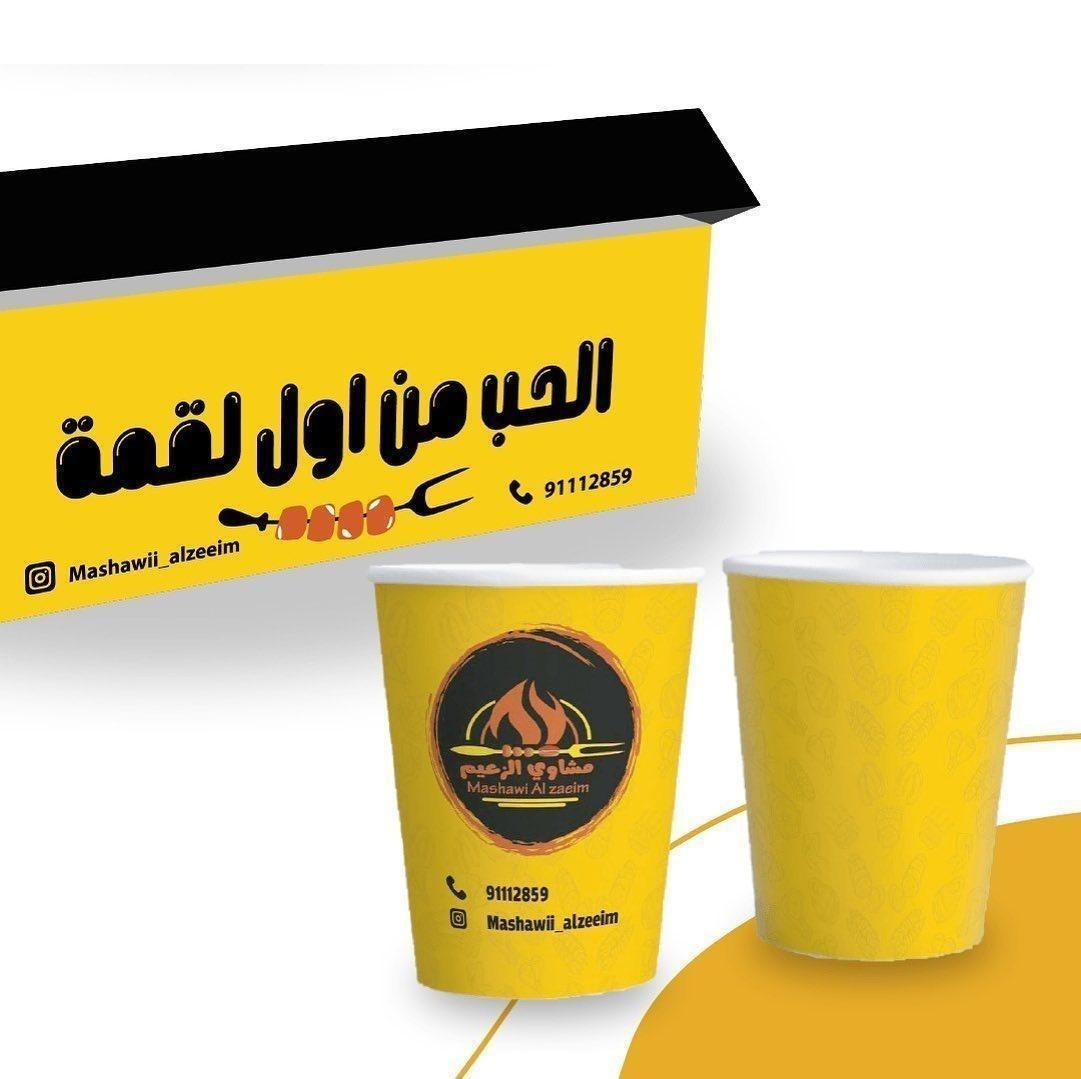cup-disposable: (359, 549, 708, 1011), (716, 529, 1037, 971)
